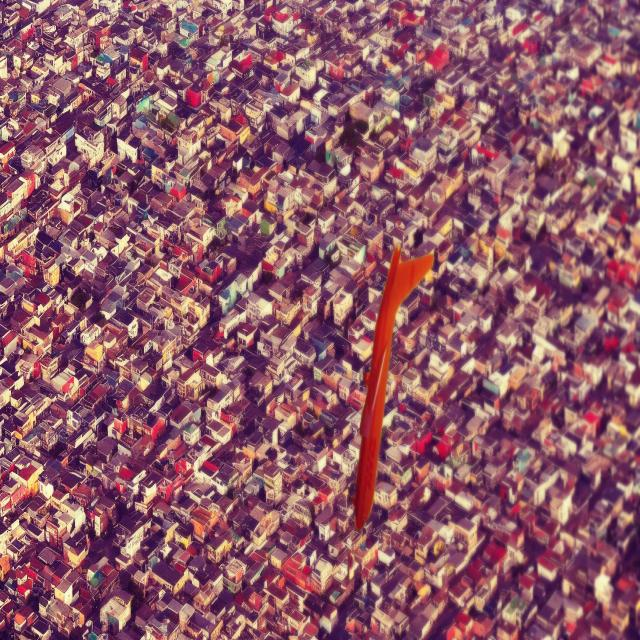airplane: (354, 248, 435, 532)
